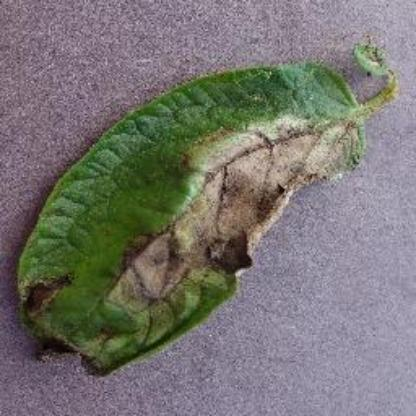Late-Blight: (12, 37, 408, 380)
